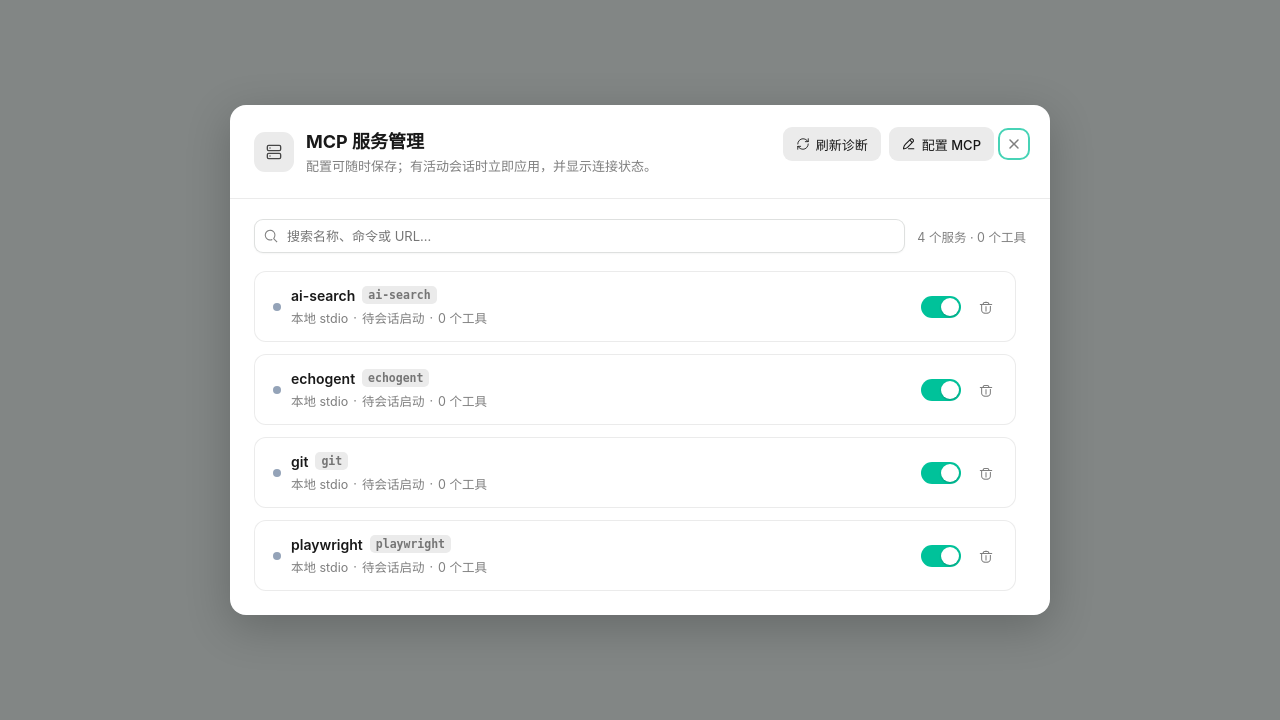
it: MCP 服务管理列表渲染契约 › 搜索过滤后只渲染匹配条目,且容器仍是 .mcp-list
Note: 输入 "git" 应只剩 1 个条目
Type "git" into the field named "搜索 MCP 服务". click: coordinates (580, 236)
box: x1=254 y1=219 x2=905 y2=253
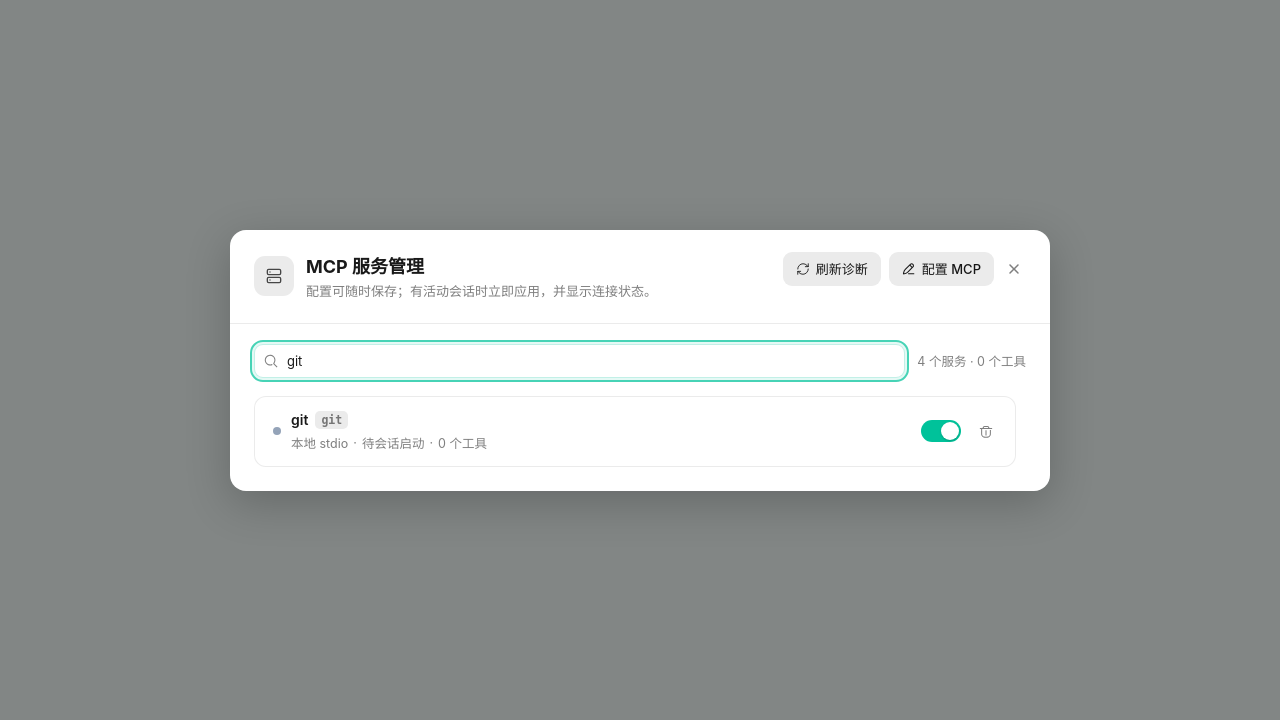
Expected: the element with class "mcp-list" is shown, x1=252 y1=396 x2=1028 y2=466
Now the number of elements with class "mcp-item-wrap" is 1, box x1=254 y1=396 x2=1016 y2=466
